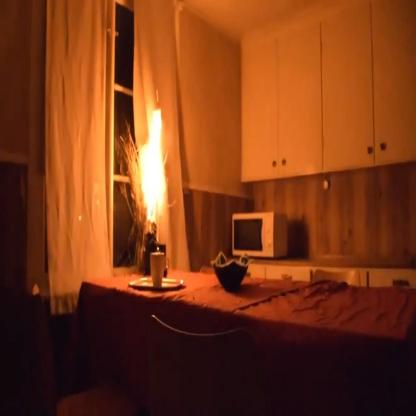fire: (135, 99, 177, 230)
